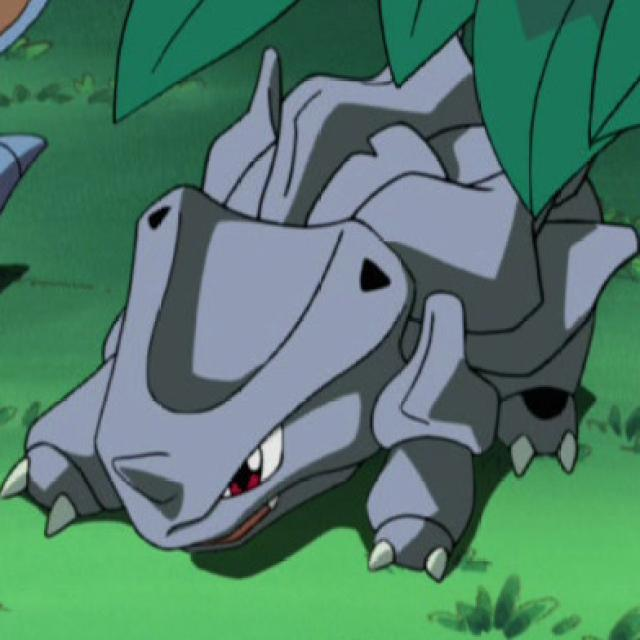Rhyhorn: (90, 62, 610, 570)
